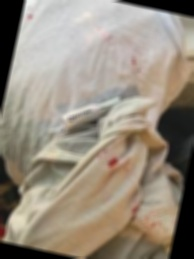blood: (107, 154, 120, 171)
